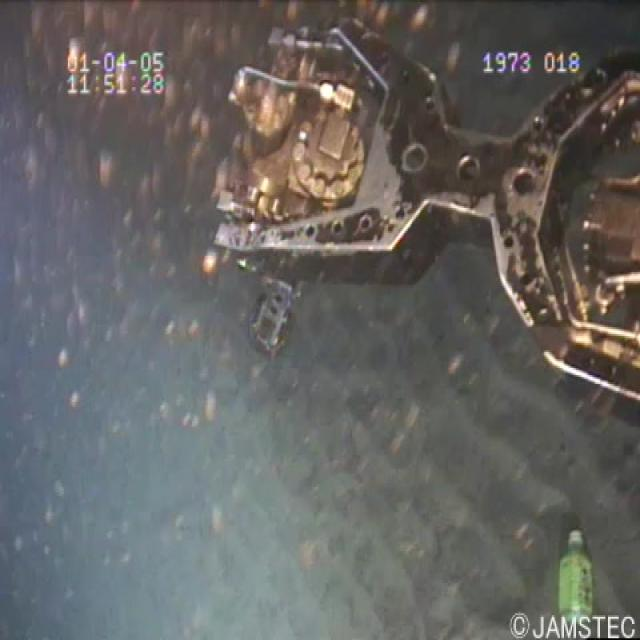plastic: (548, 517, 603, 635)
